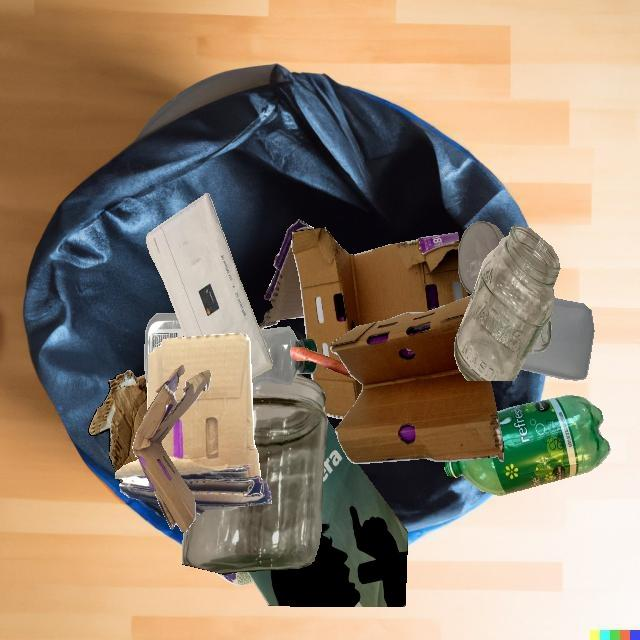biowaste: (290, 347, 356, 379)
cardboard: (330, 295, 504, 464), (292, 227, 468, 363), (147, 333, 271, 514), (132, 365, 211, 532), (88, 369, 148, 472), (259, 219, 314, 329), (215, 571, 253, 586)
glass: (182, 374, 328, 574), (454, 225, 560, 381), (458, 221, 504, 295), (528, 318, 551, 354)
paper: (247, 419, 408, 607), (146, 194, 273, 378)
plastic: (445, 395, 611, 496), (520, 298, 594, 380), (252, 327, 318, 390), (144, 313, 185, 389)
